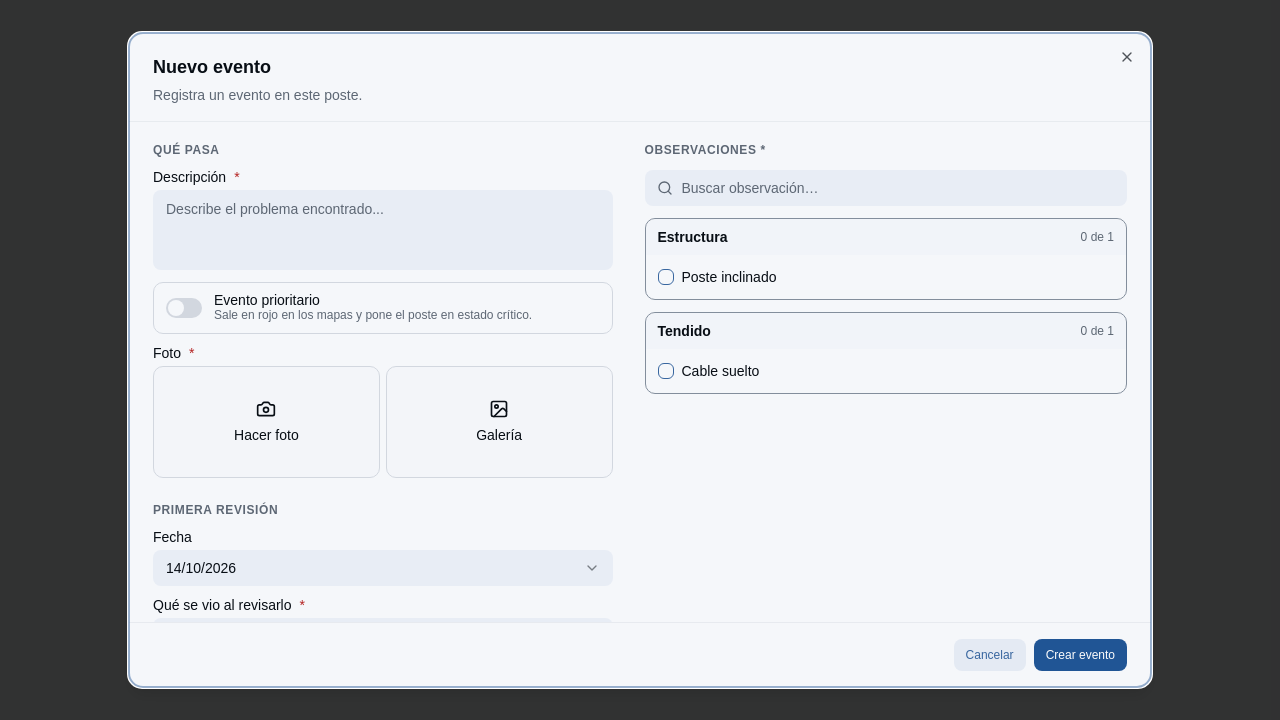
Test: choosing the observations › narrows the list by what is typed, without minding accents
Step 1. Type "CÁBLE" into the search field labelled "Buscar observación" → (886, 188), box [644,170,1127,206]
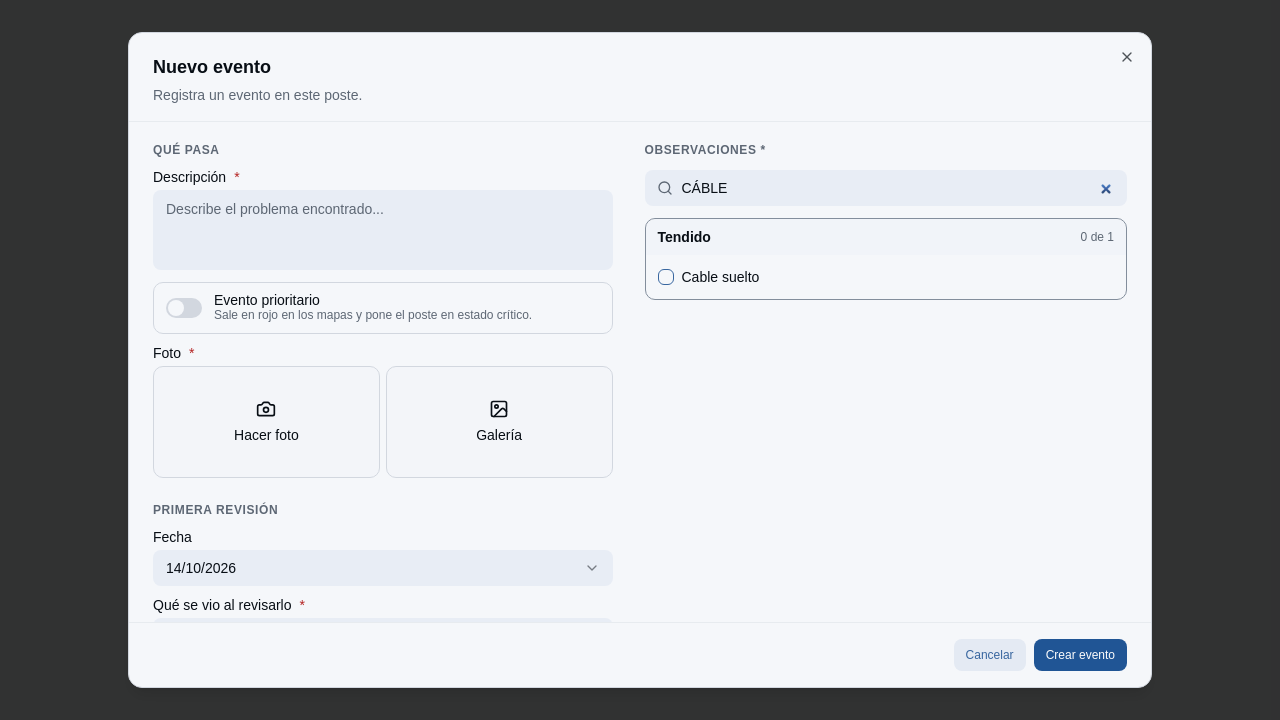
Check: the text "Cable suelto" is shown, box [682,267,759,287]
Check: the text "Poste inclinado" is gone
Check: the text "Estructura" is gone
